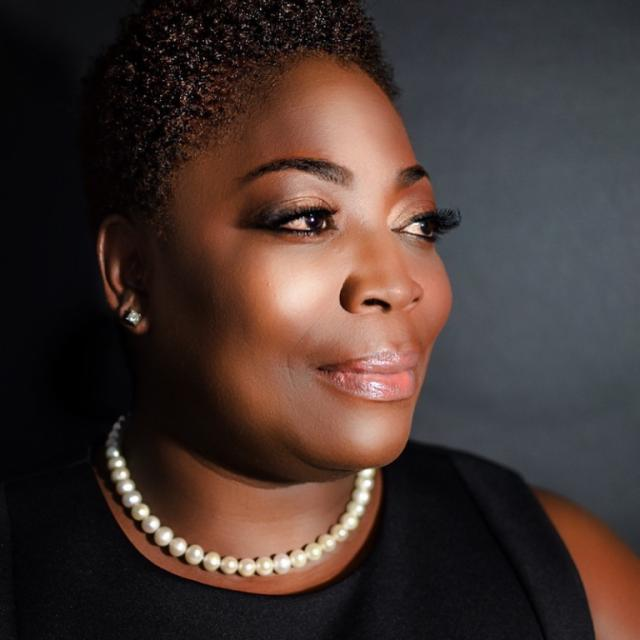sem_oculos: (91, 186, 468, 280)
